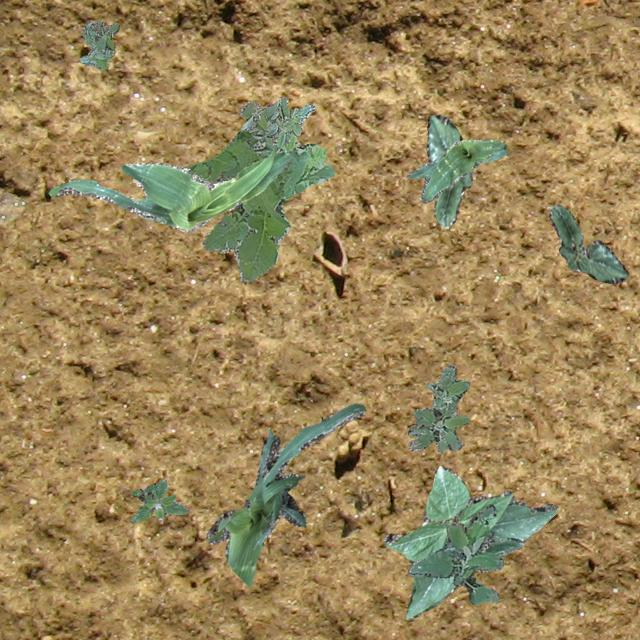crop: (206, 402, 364, 586), (382, 464, 558, 618), (45, 146, 292, 232), (405, 138, 507, 202), (548, 204, 626, 282), (426, 114, 472, 226)
weed: (184, 130, 334, 284), (407, 502, 522, 604), (406, 363, 468, 452), (238, 96, 314, 146), (128, 478, 186, 522), (78, 20, 118, 68)
